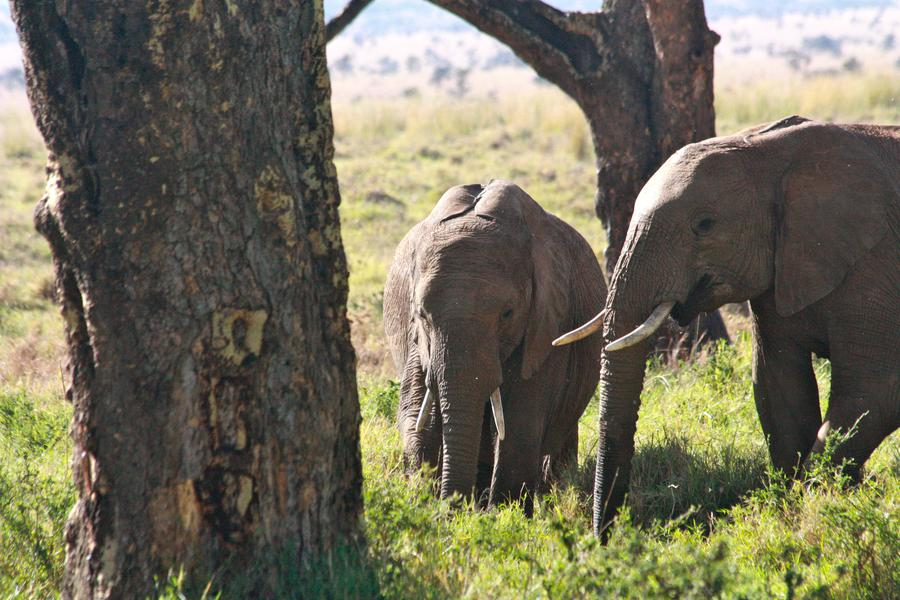elephant: (370, 167, 553, 483)
